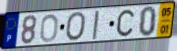0: (137, 6, 159, 39)
8: (21, 14, 38, 45)
C: (116, 9, 136, 38)
I: (91, 9, 101, 41)
O: (65, 11, 87, 42), (39, 14, 60, 44)
